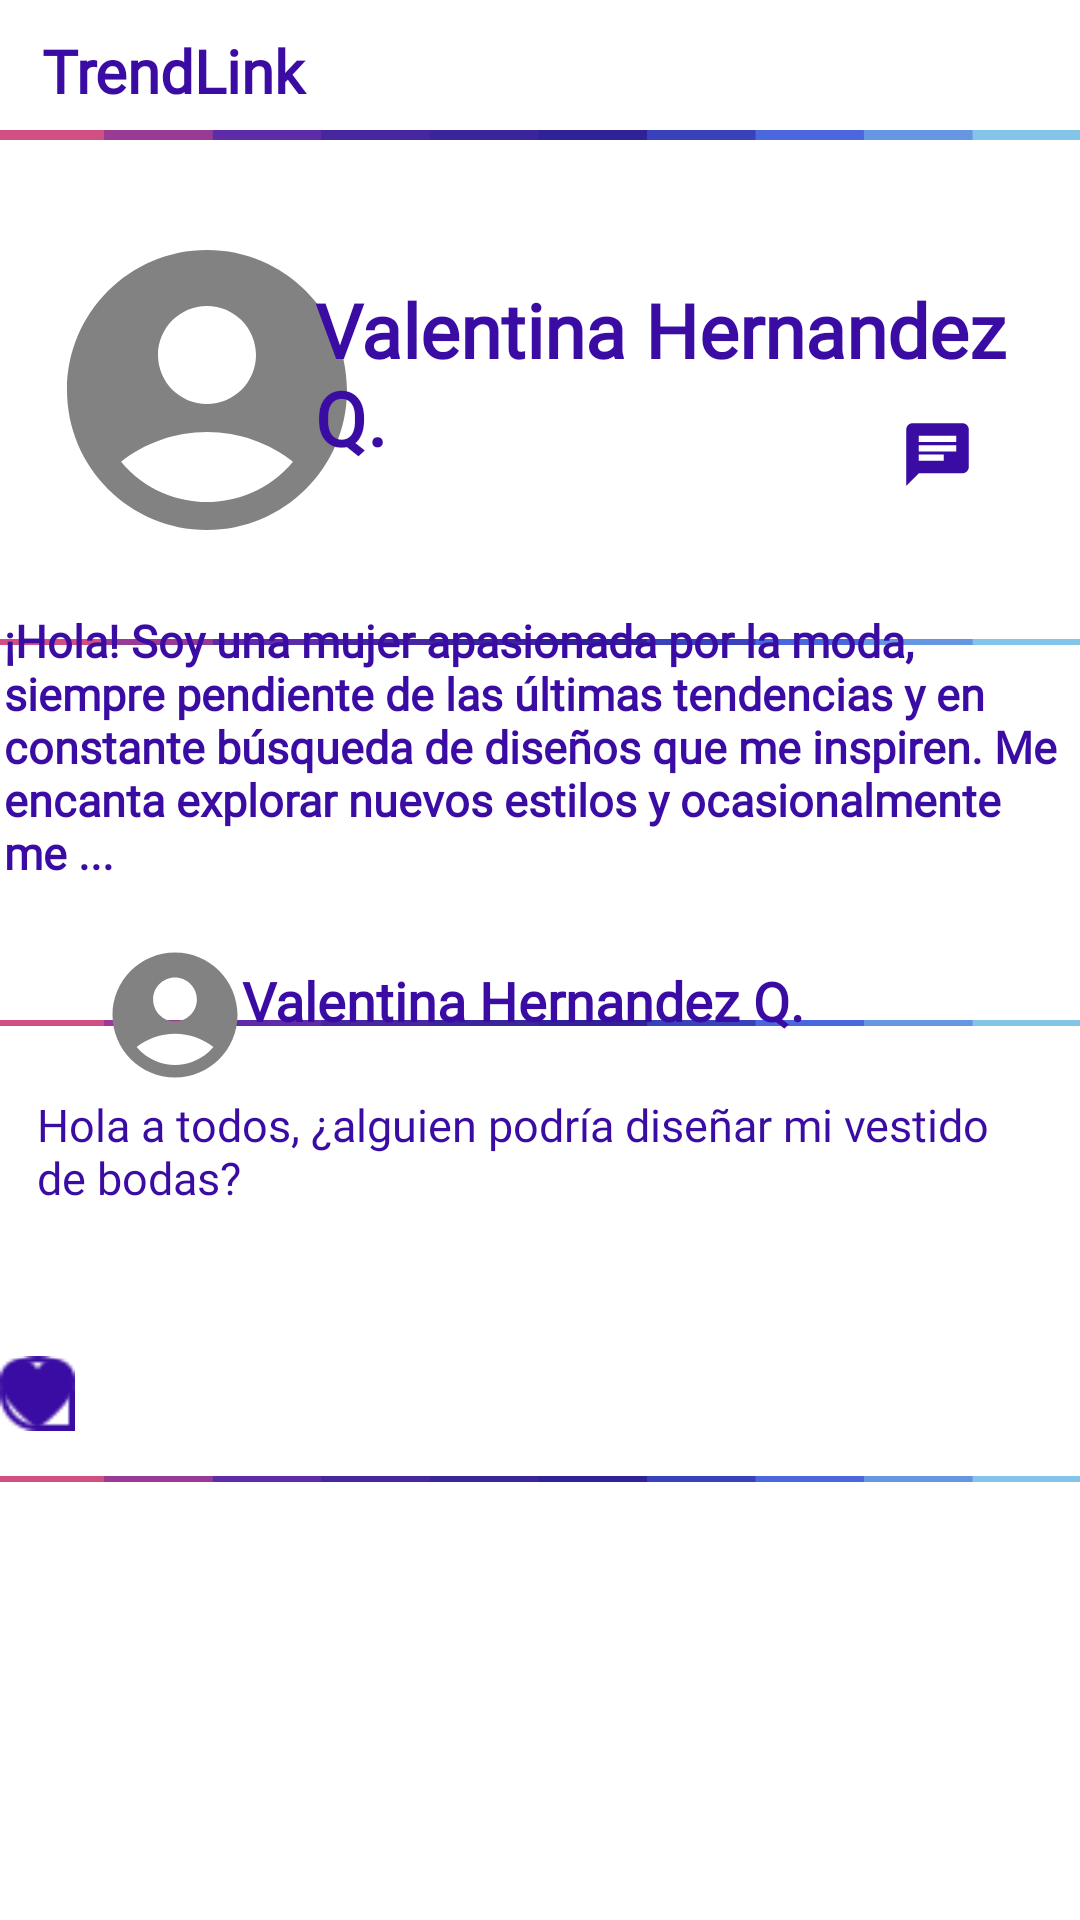

Named icons in this screenshot (1080x1920) and their bounding boxes, (x1, y1, x2, y2):
mensajes: (906, 423, 969, 486)
usuario: (67, 250, 365, 530), (100, 952, 250, 1078)
